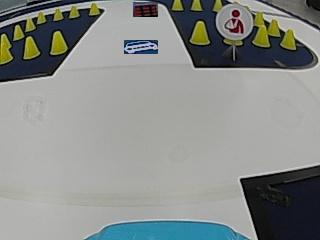cone: (190, 20, 211, 45), (50, 31, 68, 55), (23, 36, 40, 59), (0, 33, 13, 63), (253, 25, 270, 47), (280, 29, 296, 50), (269, 18, 280, 35), (13, 24, 24, 39), (68, 6, 80, 18), (25, 17, 36, 30), (171, 0, 183, 11), (190, 0, 202, 11), (88, 3, 99, 15), (53, 8, 63, 20), (36, 11, 46, 23)
patient: (223, 3, 252, 39)
